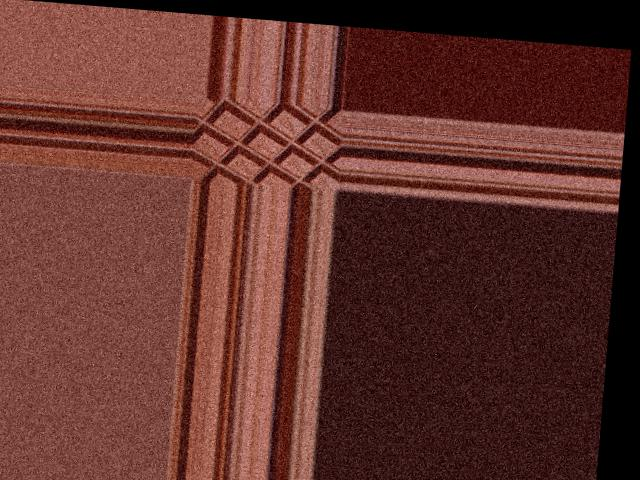chocolate: (190, 96, 340, 188)
